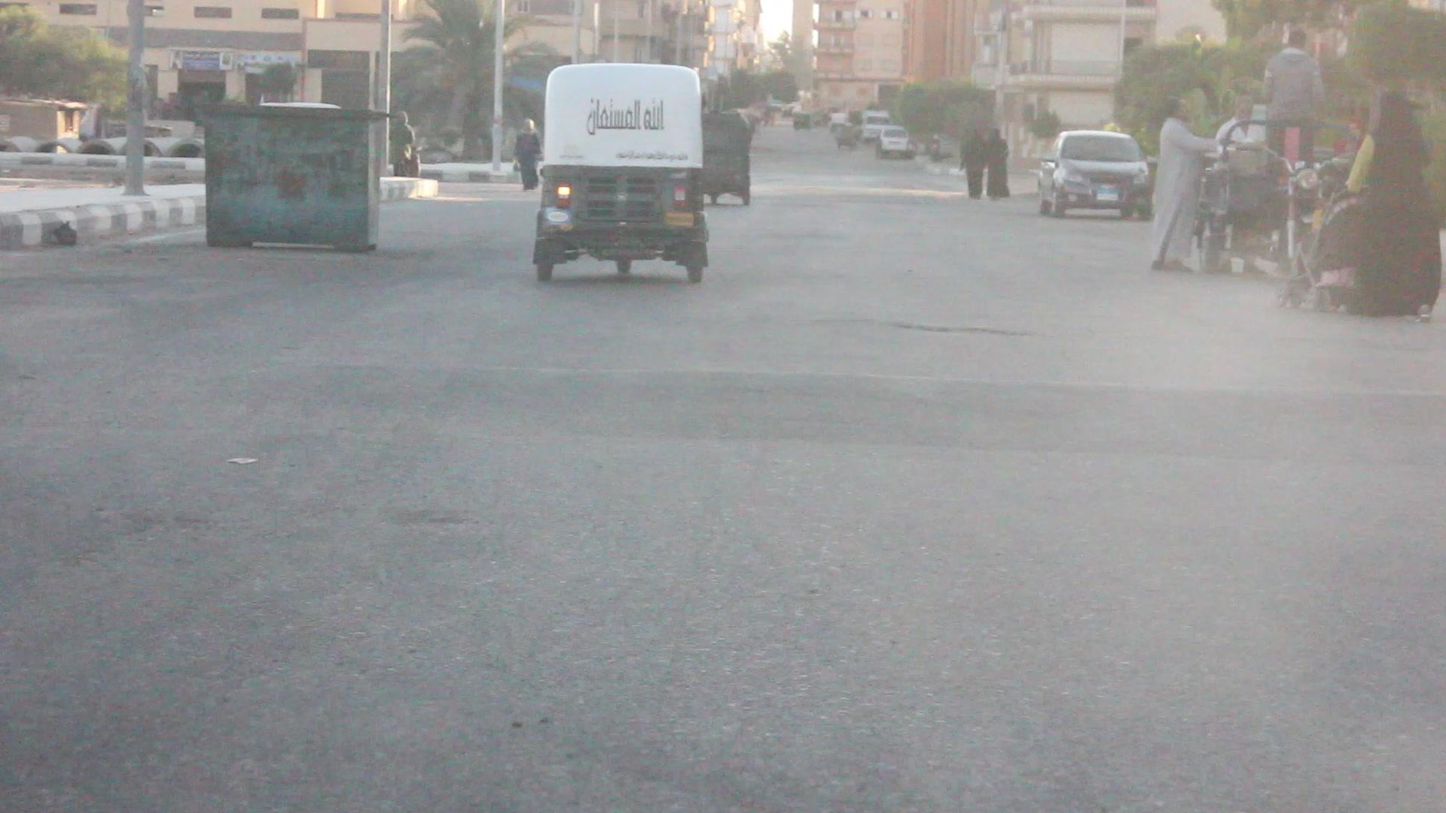Bump: (0, 344, 1446, 478)
